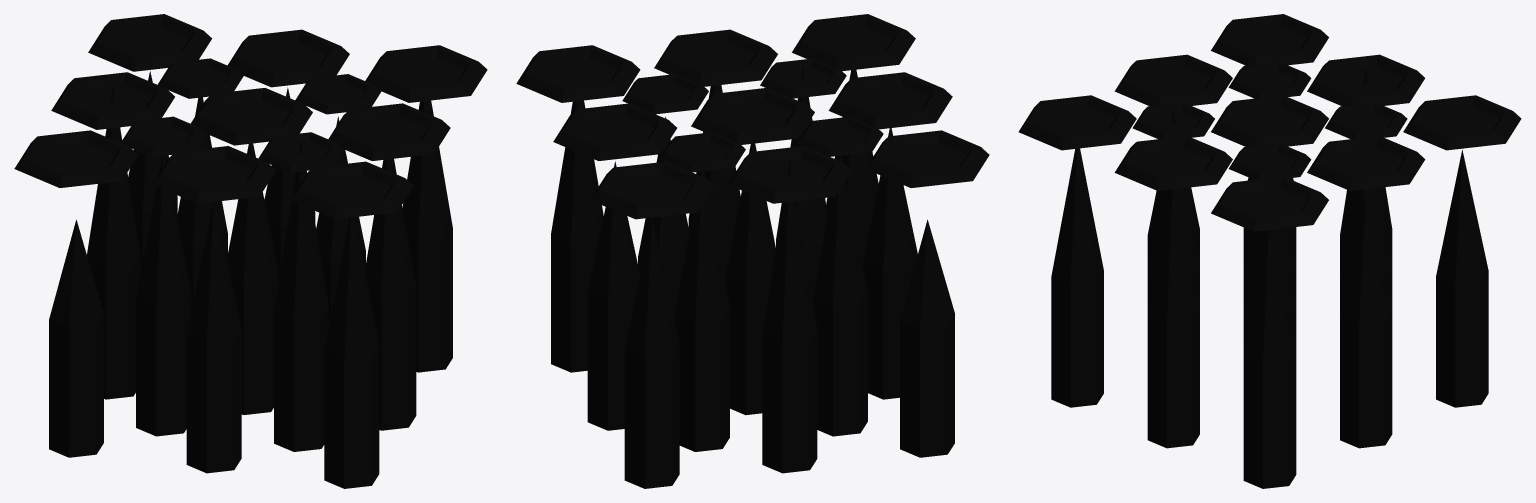
The model's file is Spikes_0_0.fbx.
3 views of the same model, side by side, from view 1: azimuth 30°, elevation 25°; view 2: azimuth 150°, elevation 25°; view 3: azimuth 270°, elevation 25° (orthographic). The views are drawn at different scales.
Visible parts, largest first — view 1: Spikes, Spikes_0_0; view 2: Spikes, Spikes_0_0; view 3: Spikes, Spikes_0_0.
Boxes of the visible parts, box(x1,y1,x2,y2) form: Spikes: box(49, 68, 452, 488); Spikes_0_0: box(14, 14, 487, 219); Spikes: box(551, 55, 954, 488); Spikes_0_0: box(516, 14, 989, 219); Spikes: box(1051, 67, 1488, 488); Spikes_0_0: box(1018, 14, 1521, 231).
Bounding box in the file's own units: 1.11 × 0.7037 × 1.11.
Materials: 1 (1 with a texture image).
